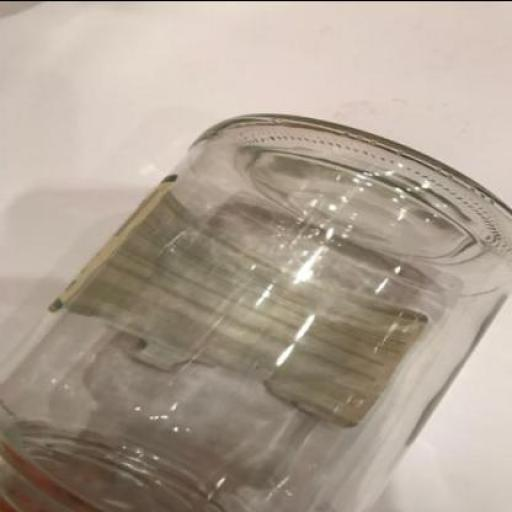glass: (1, 110, 511, 510)
